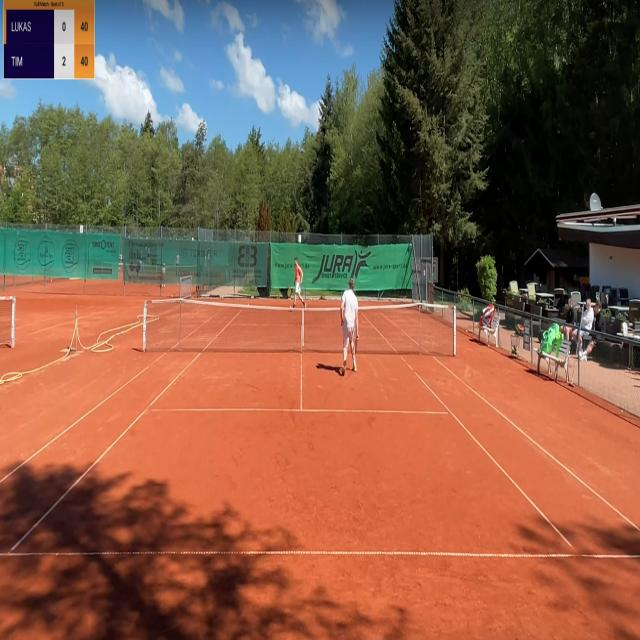ball: (248, 303, 250, 307)
